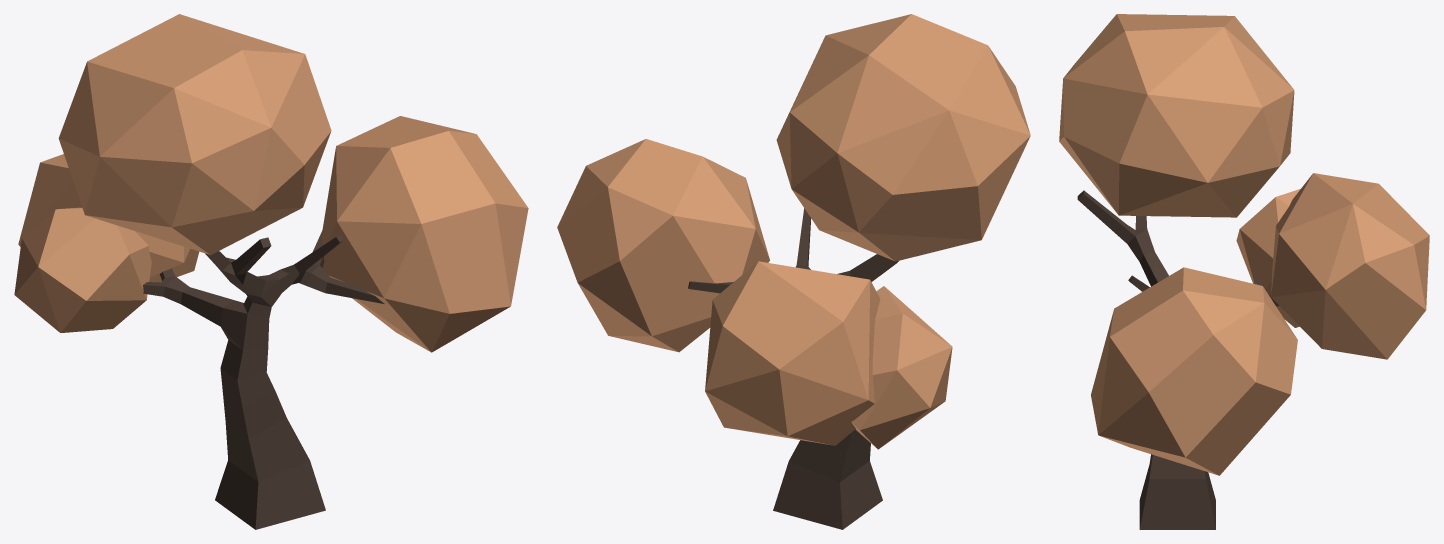
Rendered from orangetree_2.fbx.
The picture shows the model from 3 angles, left to right: view 1: azimuth 30°, elevation 25°; view 2: azimuth 150°, elevation 25°; view 3: azimuth 270°, elevation 25°; orthographic projection. The views are drawn at different scales.
Parts seen in each view (by area): view 1: orangetree_2; view 2: orangetree_2; view 3: orangetree_2.
Boxes of the visible parts, x1,y1,x2,y2 form: orangetree_2: [14, 14, 528, 529]; orangetree_2: [557, 14, 1030, 529]; orangetree_2: [1059, 14, 1429, 529].
Size of the model in its own units: 1416 by 1535 by 1123.
